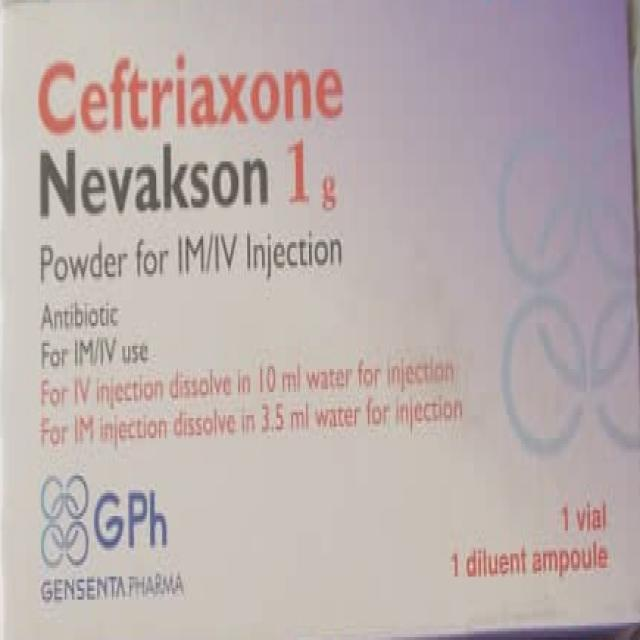drug-name: (40, 51, 348, 139)
